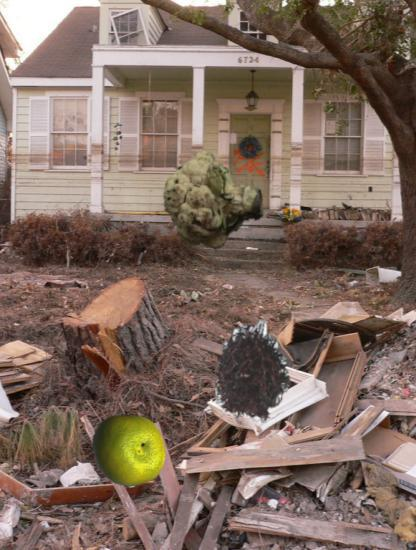Cauliflower: (163, 150, 261, 248)
Pomelo: (91, 412, 167, 488)
Rambutan: (196, 321, 304, 429)
